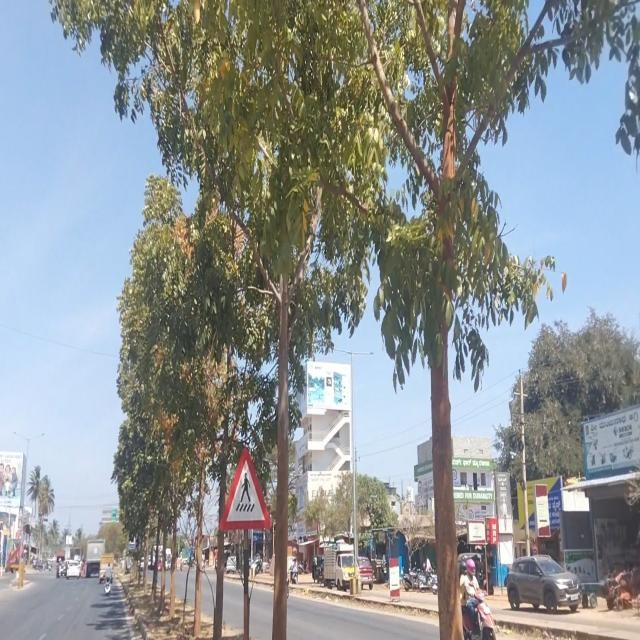bien_nguy_hiem: (219, 446, 269, 532)
